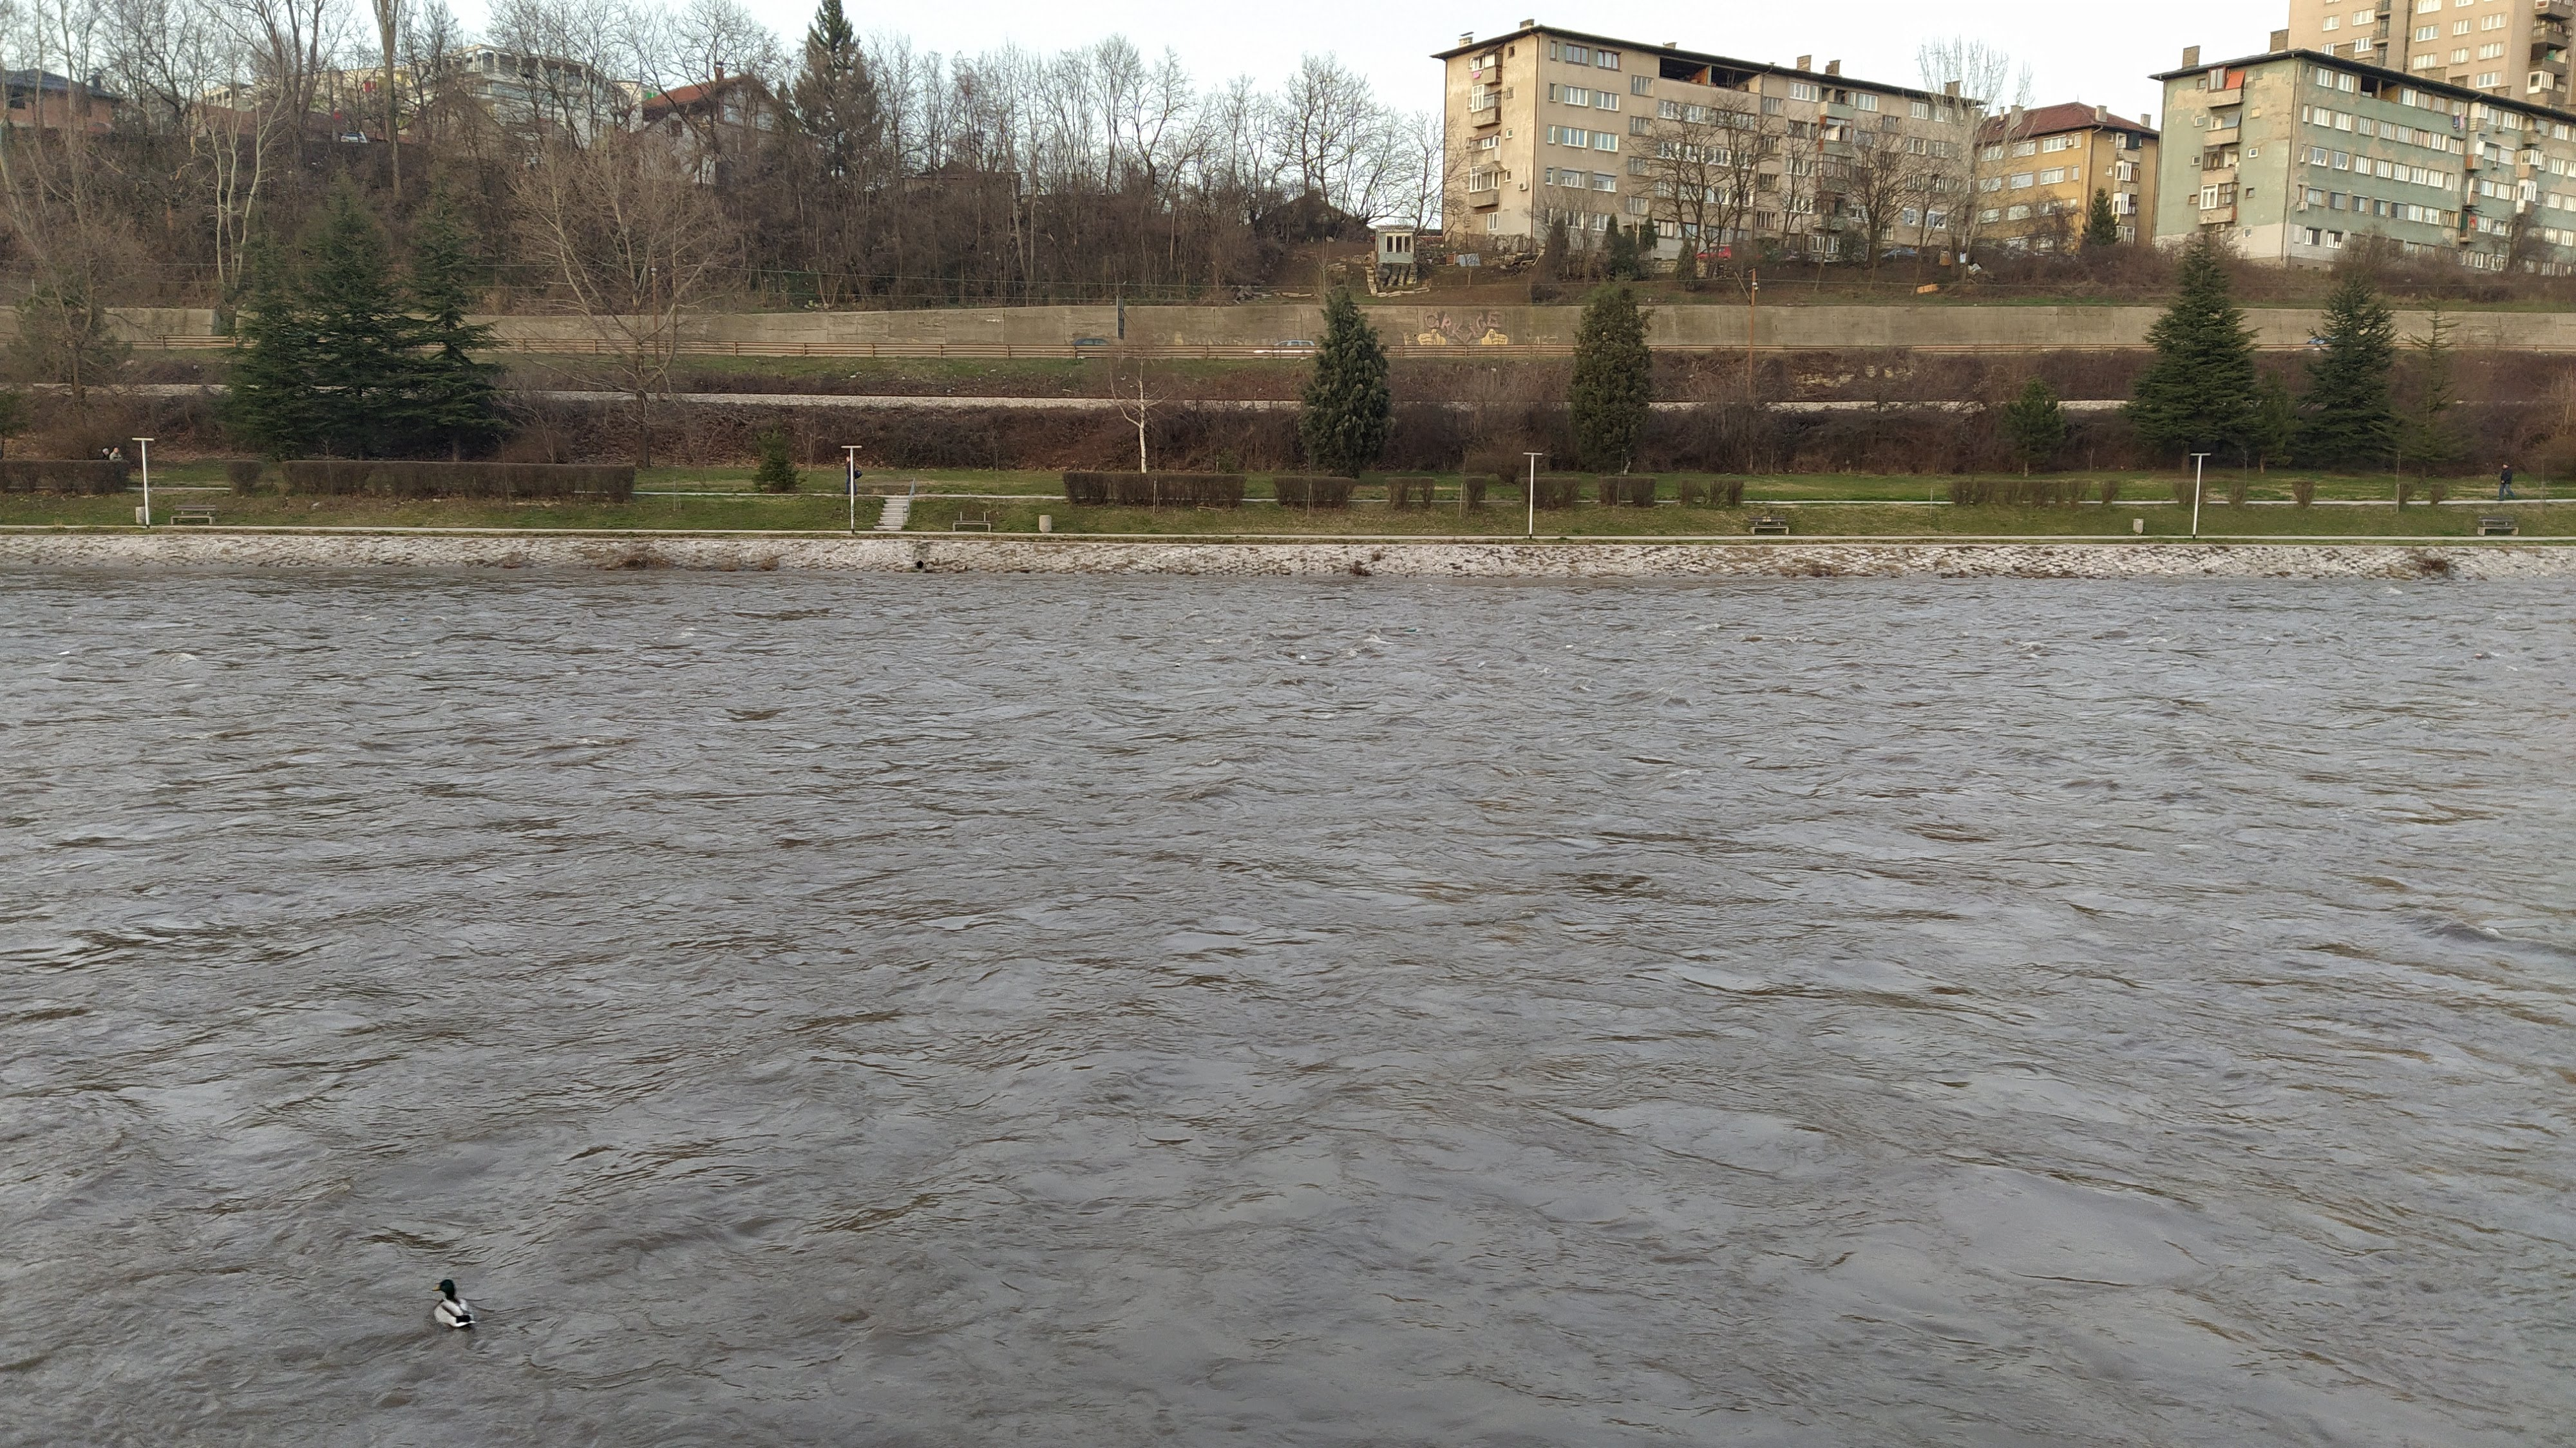Plastic Bottle: (1477, 660, 1484, 667), (58, 650, 67, 655), (1403, 628, 1415, 632), (1543, 667, 1548, 673), (400, 618, 407, 620), (1175, 662, 1178, 666)
